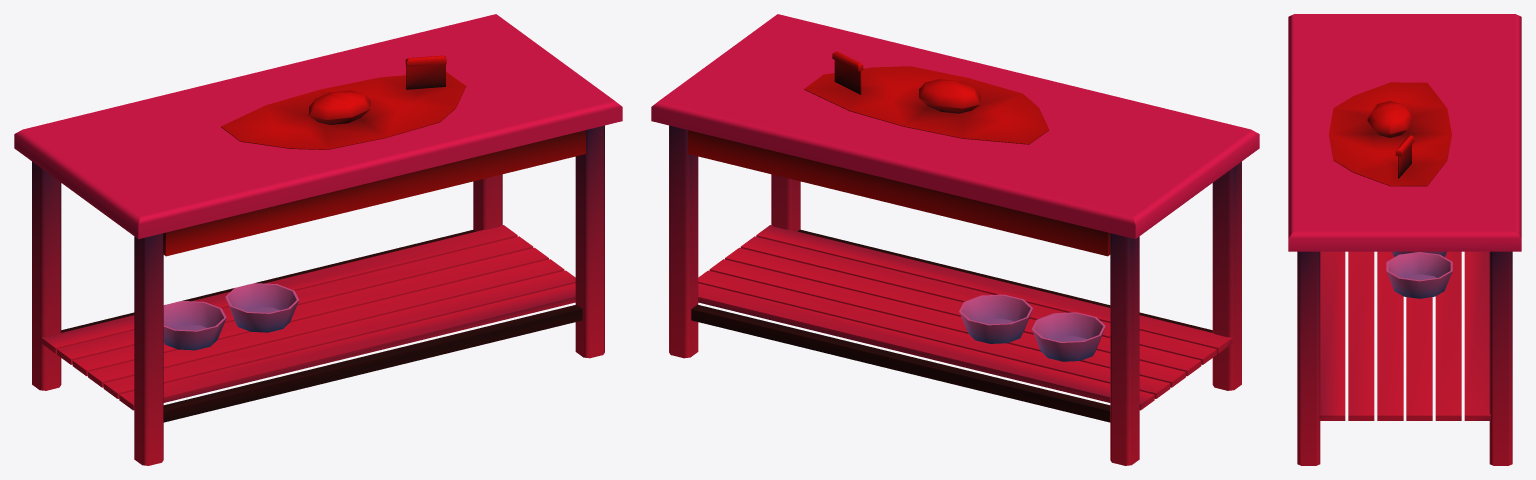
Rendered from CI_Bakery_WorkTable_Floured.glb.
The picture shows the model from 3 angles, left to right: view 1: azimuth 30°, elevation 25°; view 2: azimuth 150°, elevation 25°; view 3: azimuth 270°, elevation 25°; orthographic projection. The views are drawn at different scales.
Parts seen in each view (by area): view 1: CI_Bakery_WorkTable_Floured; view 2: CI_Bakery_WorkTable_Floured; view 3: CI_Bakery_WorkTable_Floured.
Boxes of the visible parts, x1=… form: CI_Bakery_WorkTable_Floured: x1=14, y1=14, x2=622, y2=465; CI_Bakery_WorkTable_Floured: x1=651, y1=14, x2=1259, y2=465; CI_Bakery_WorkTable_Floured: x1=1288, y1=14, x2=1521, y2=465.
Size of the model in its own units: 1.8 by 1.01 by 0.8.
